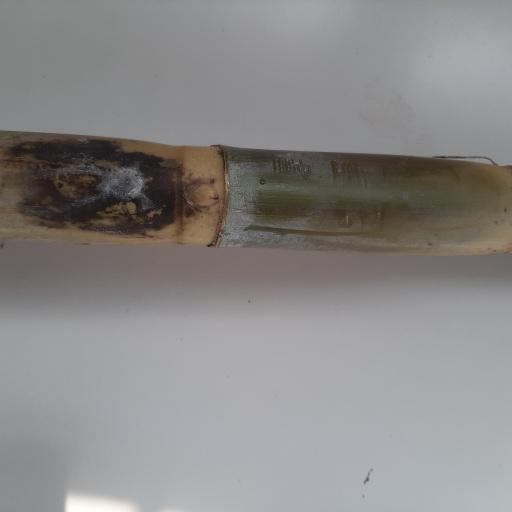Bud: (186, 178, 219, 210)
